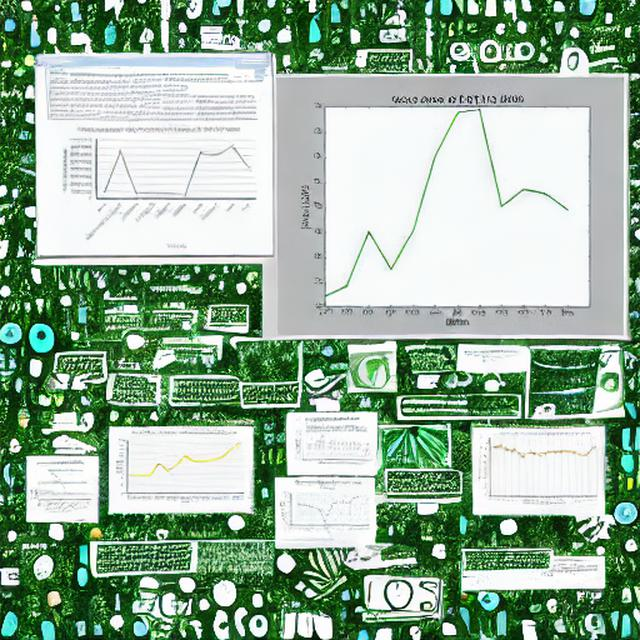Graph: (282, 78, 624, 335), (57, 123, 259, 252), (111, 428, 247, 508), (476, 431, 600, 510), (276, 479, 373, 537), (29, 479, 93, 517)
